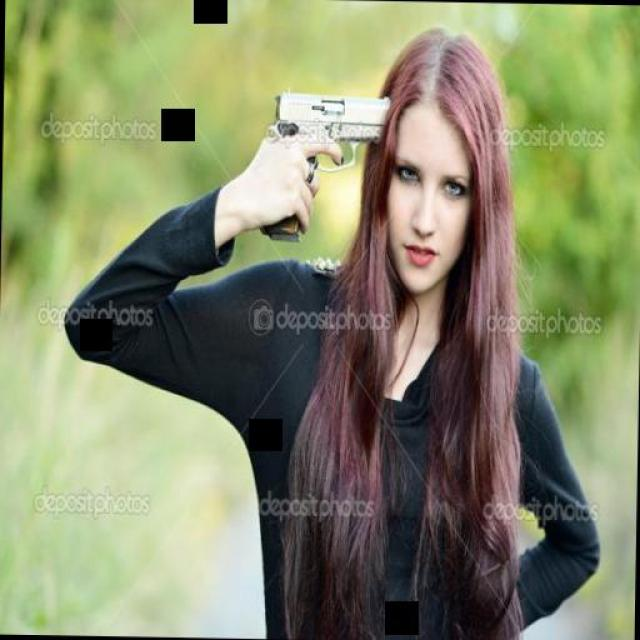gun: (262, 76, 393, 288)
